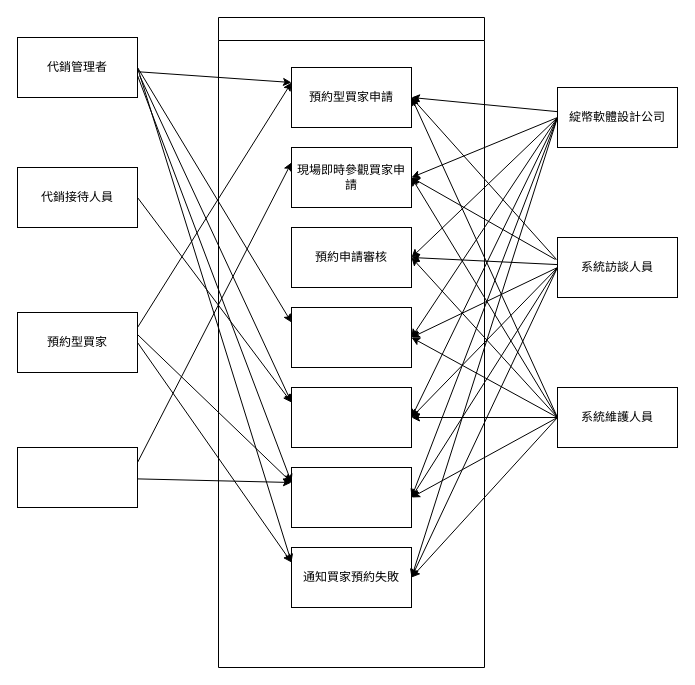
Image size: 695x685. Some labels were removed from this diagram. Each missing label, with the box of its shape:
使用案例: (218, 16, 484, 668)
接待人員安排: (290, 386, 412, 448)
現場即時參觀買家: (16, 446, 138, 508)
現場申請審核: (290, 306, 412, 368)
通知買家預約成功: (290, 466, 412, 528)
